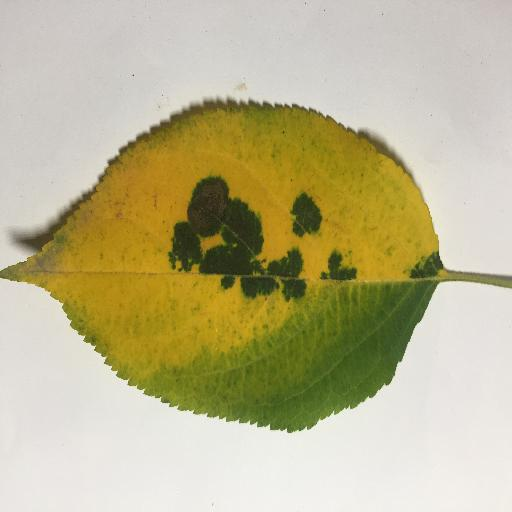Brown_Spot: (196, 180, 228, 234)
